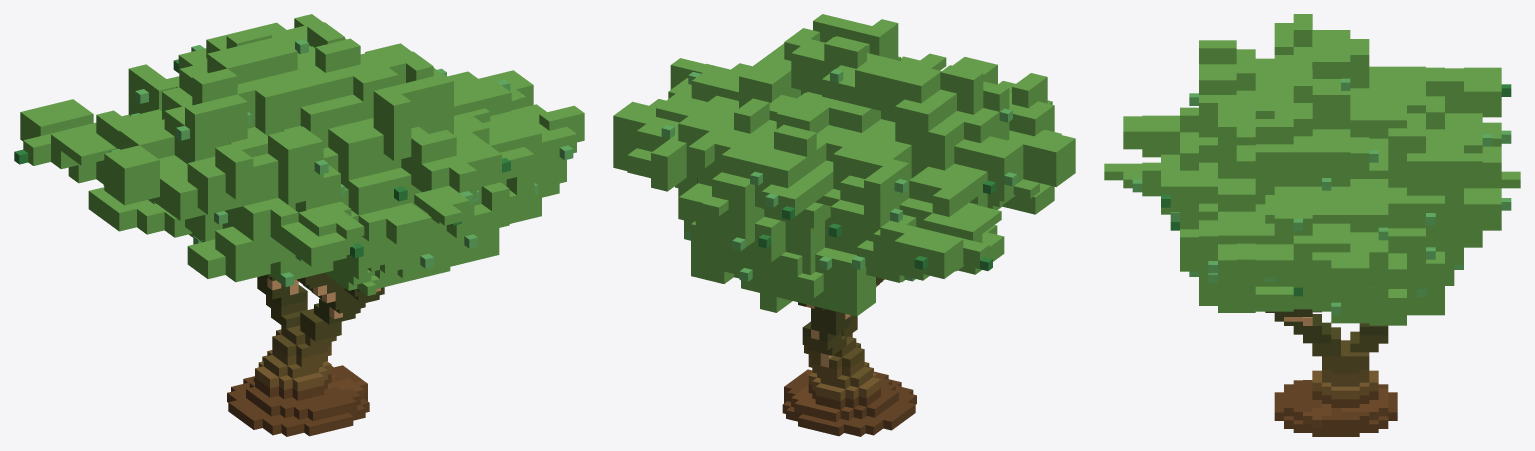
File: 2_0 acer.obj
The picture shows the model from 3 angles, left to right: view 1: azimuth 30°, elevation 25°; view 2: azimuth 150°, elevation 25°; view 3: azimuth 270°, elevation 25°; orthographic projection. The views are drawn at different scales.
Bounding box in the file's own units: 5.2 × 4 × 4.4.
1 material, 1 textured.
